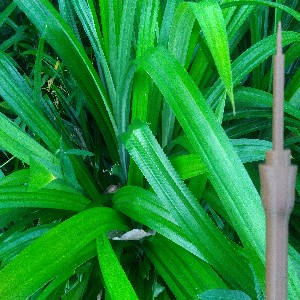solder: (257, 19, 298, 300)
